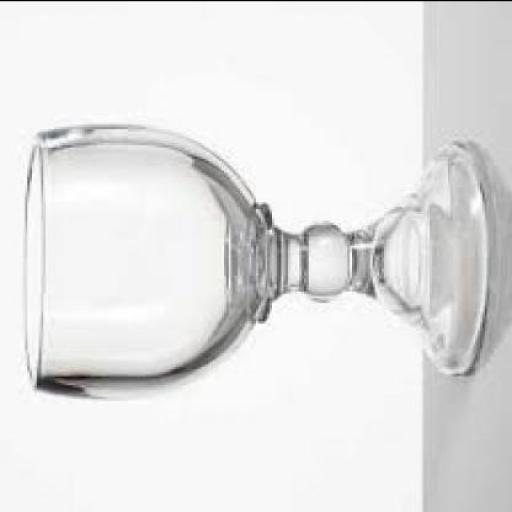glass: (23, 122, 487, 400)
